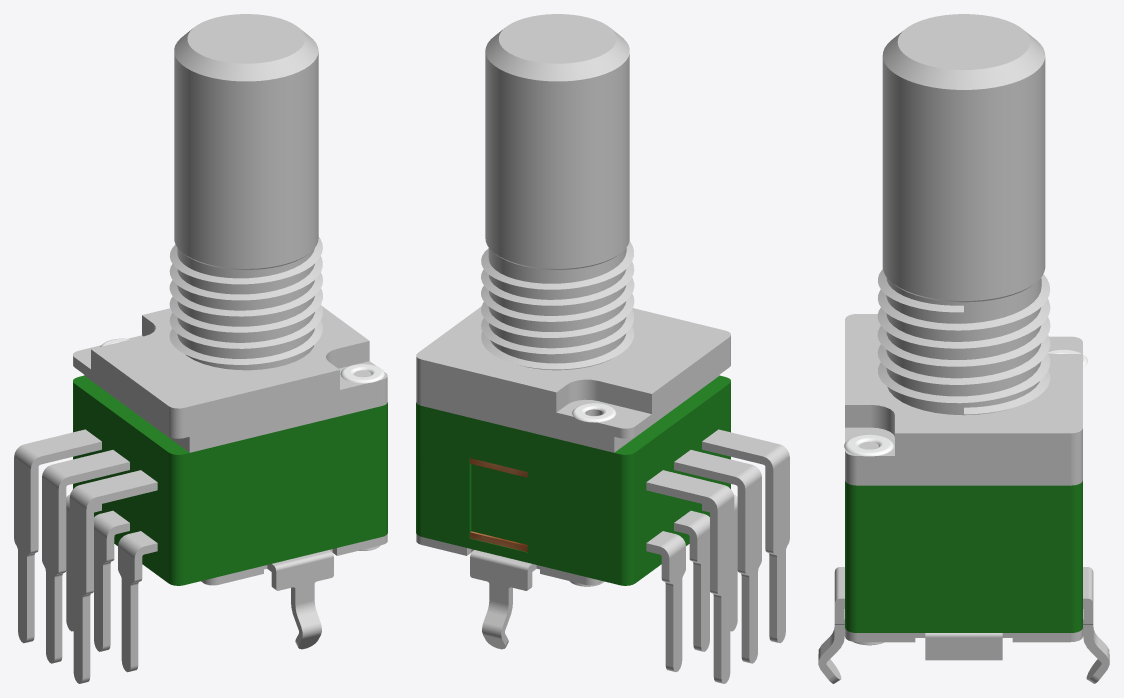
File: pot_RD902F_6.35mm_shaft_alpha_9mm_dual_gang_vertical.glb
3 renders of one model, left to right at view 1: azimuth 30°, elevation 25°; view 2: azimuth 150°, elevation 25°; view 3: azimuth 270°, elevation 25°, orthographic. The views are drawn at different scales.
Visible parts, largest first — view 1: Solid2, Solid1, Solid5, Solid3; view 2: Solid2, Solid1, Solid5, Solid6, Solid3; view 3: Solid2, Solid5, Solid1, Solid3.
Part boxes in pixels (x1,y1,x2,y2): Solid2: (14,237,387,683); Solid1: (73,375,387,585); Solid5: (174,14,318,269); Solid3: (100,338,384,550); Solid2: (416,241,789,683); Solid1: (416,375,730,585); Solid5: (485,14,629,269); Solid6: (470,458,527,552); Solid3: (569,403,616,586); Solid2: (818,269,1109,683); Solid5: (882,14,1045,302); Solid1: (845,481,1082,632); Solid3: (844,349,1087,645).
Size of the model in its own units: 0.015 by 0.0286 by 0.0116.
4 materials, 1 textured.
